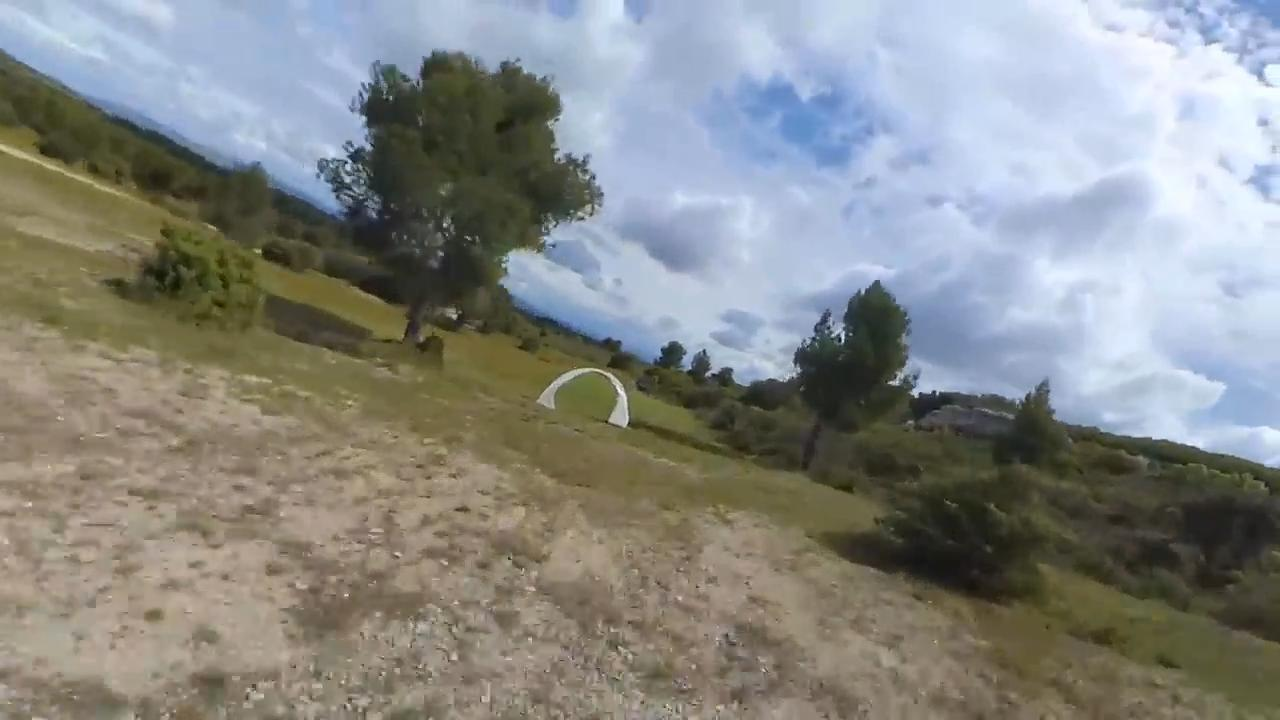gate: (535, 367, 629, 431)
